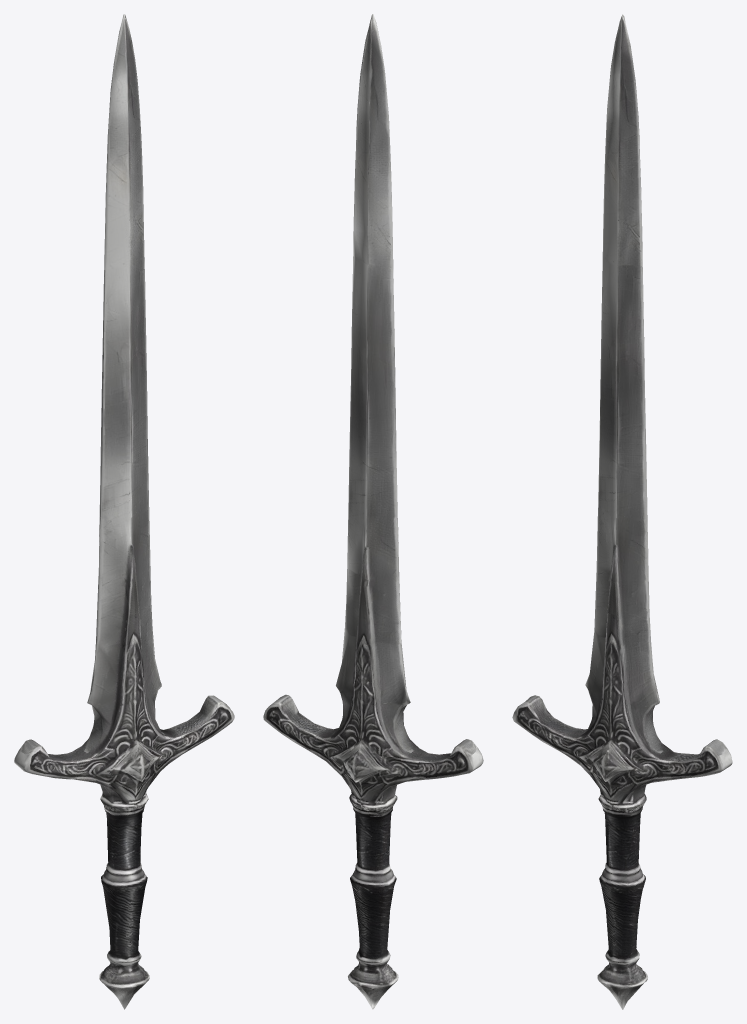
File: 1274_sword.glb
3 views of the same model, side by side, from view 1: azimuth 30°, elevation 25°; view 2: azimuth 150°, elevation 25°; view 3: azimuth 330°, elevation 25° (orthographic).
Visible parts, largest first — view 1: Model; view 2: Model; view 3: Model.
Boxes of the visible parts, left/top/right/bottom form: Model: left=14, top=14, right=234, bottom=1009; Model: left=263, top=14, right=483, bottom=1009; Model: left=512, top=14, right=732, bottom=1009.
Bounding box in the file's own units: 0.222 × 1 × 0.07.
Materials: 1 (1 with a texture image).
